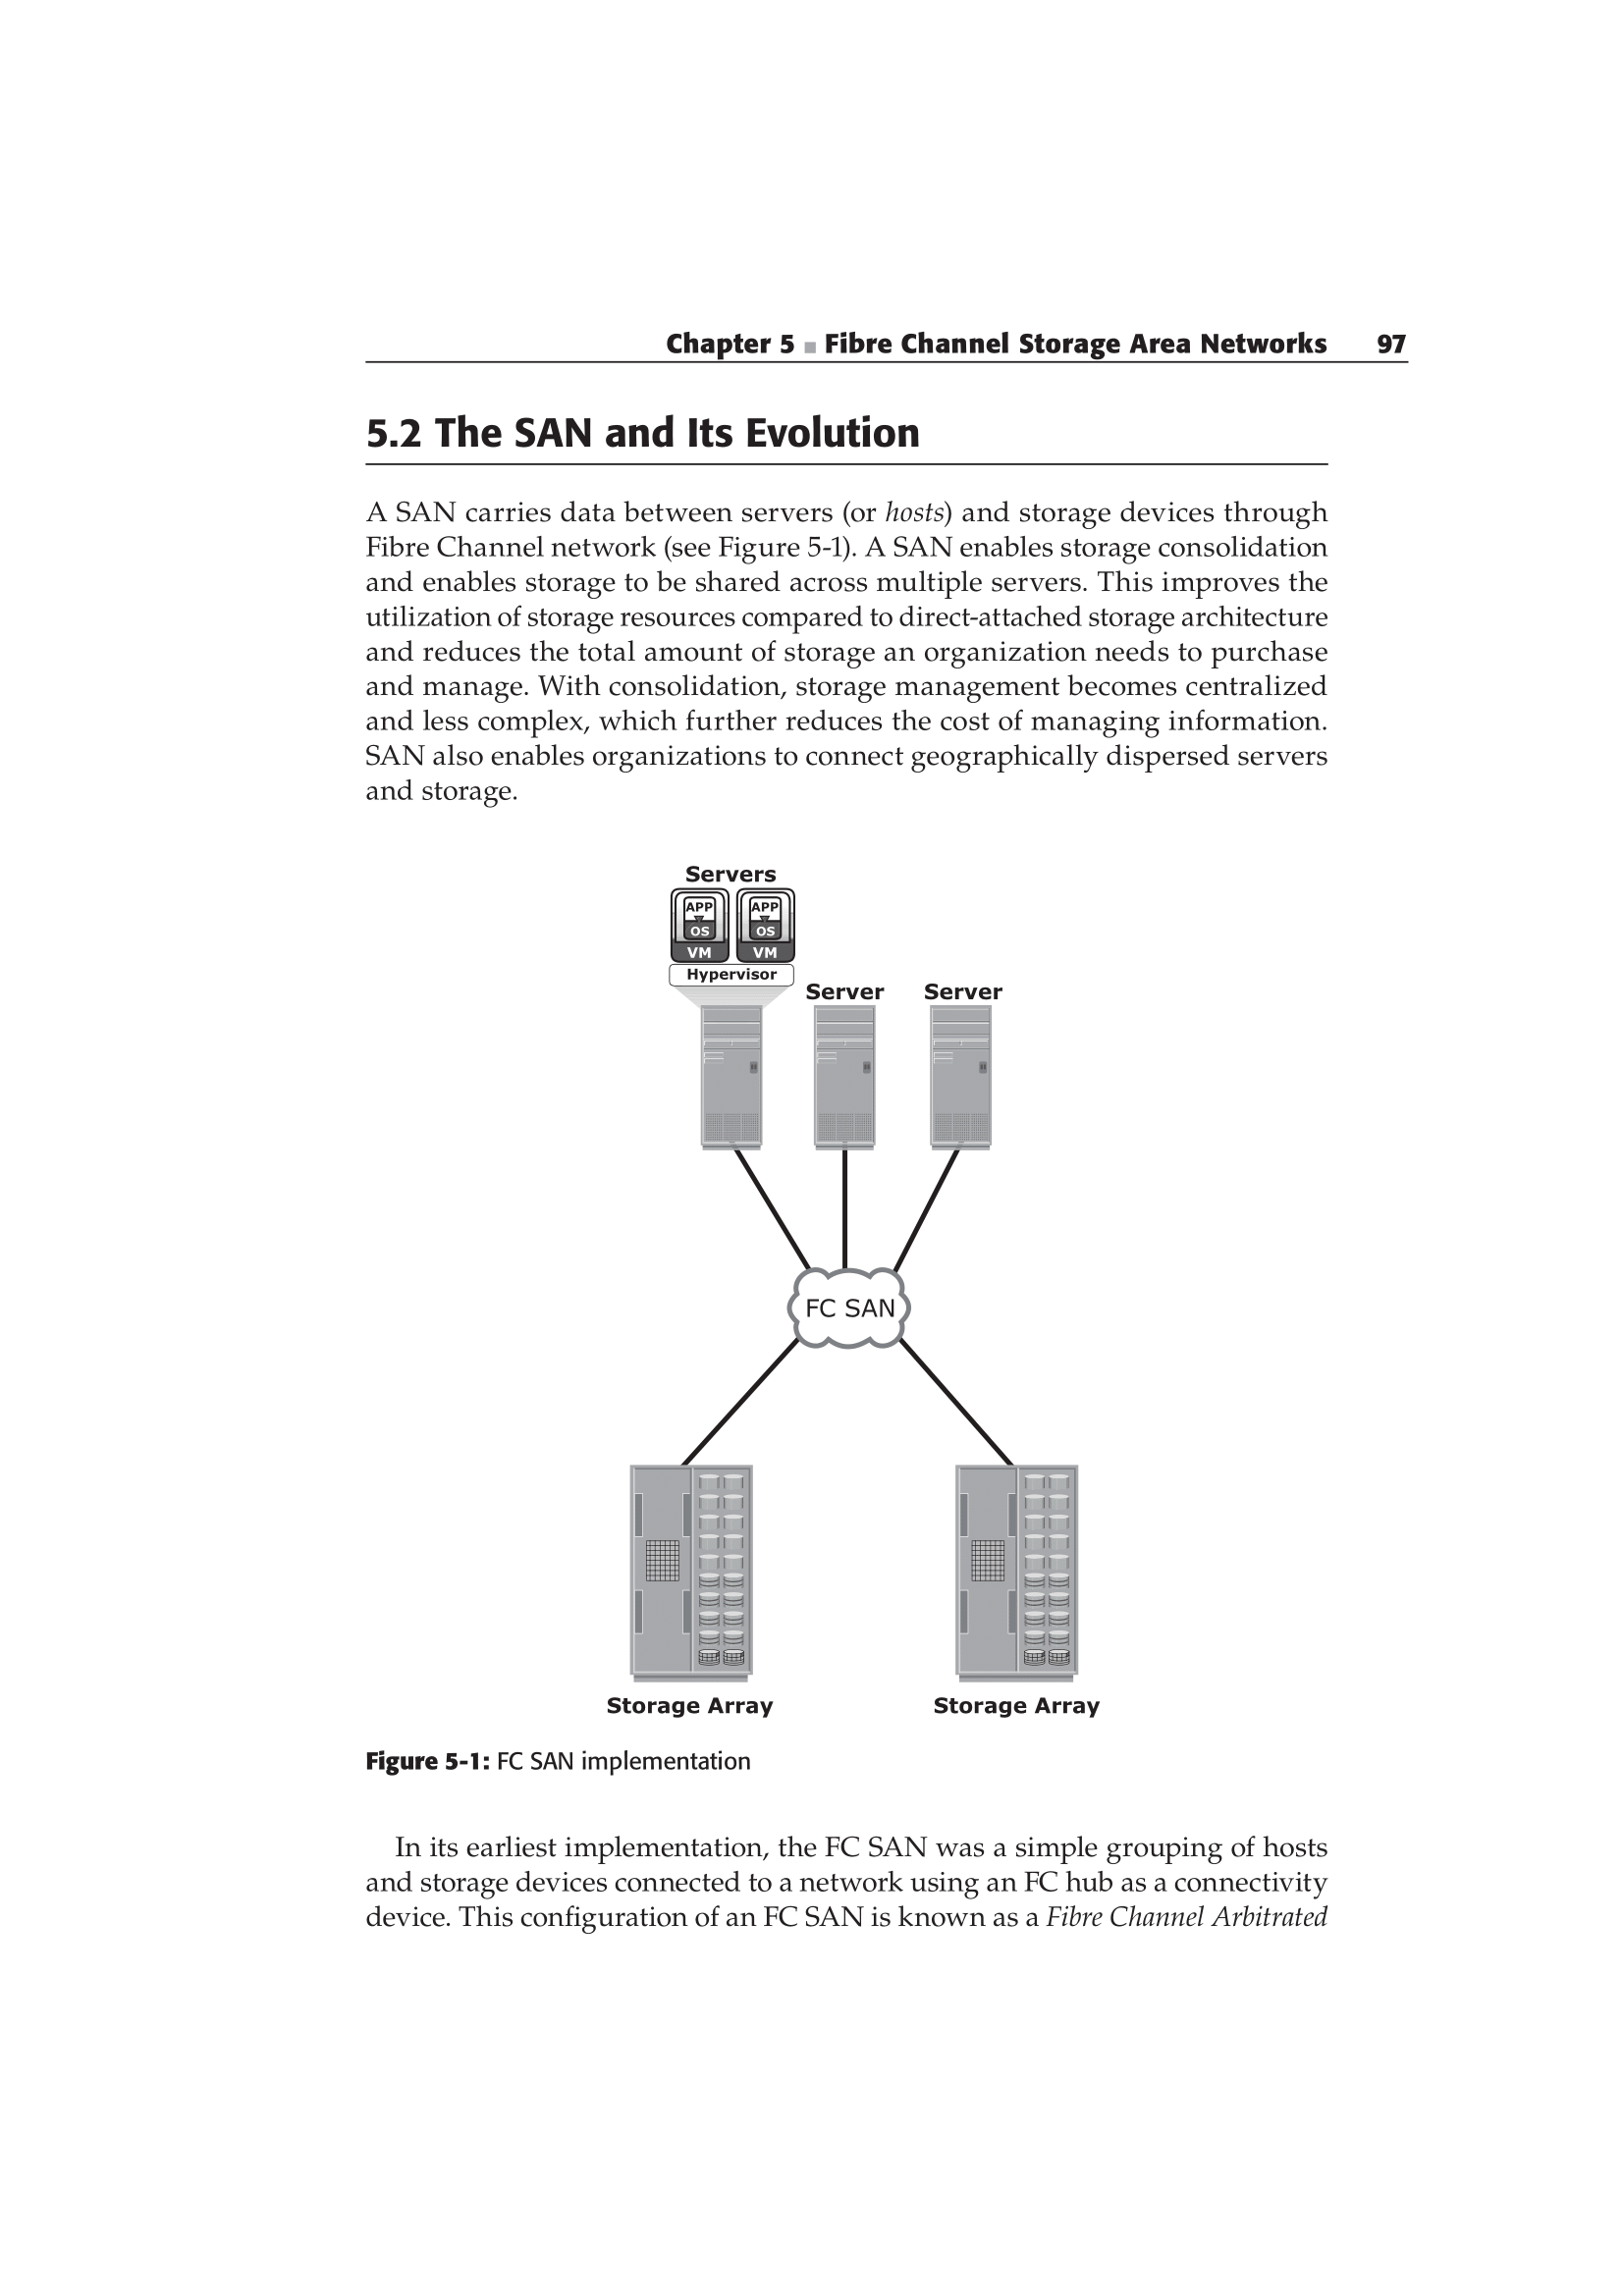Image: (617, 816, 1119, 1740)
Paragraph: (348, 479, 1351, 813), (351, 1817, 1347, 1945), (667, 302, 1416, 365), (343, 393, 931, 462), (351, 1734, 785, 1794)
